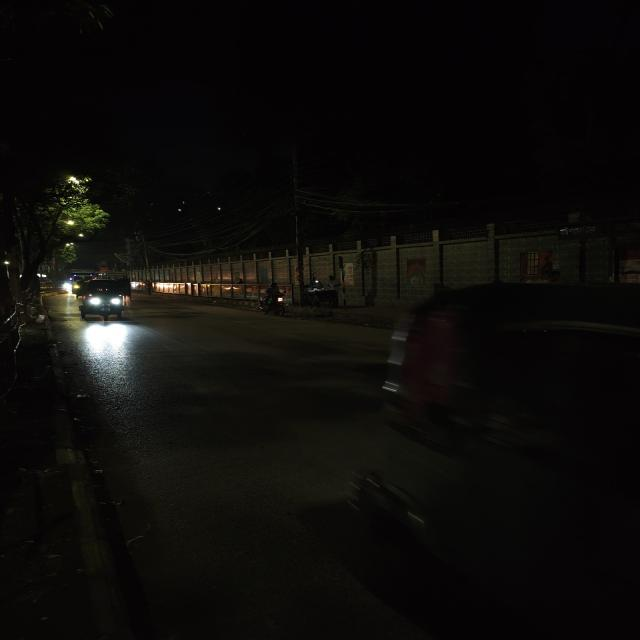cng: (82, 279, 134, 322)
motorcycle: (257, 283, 291, 317)
truck: (68, 270, 93, 291)
